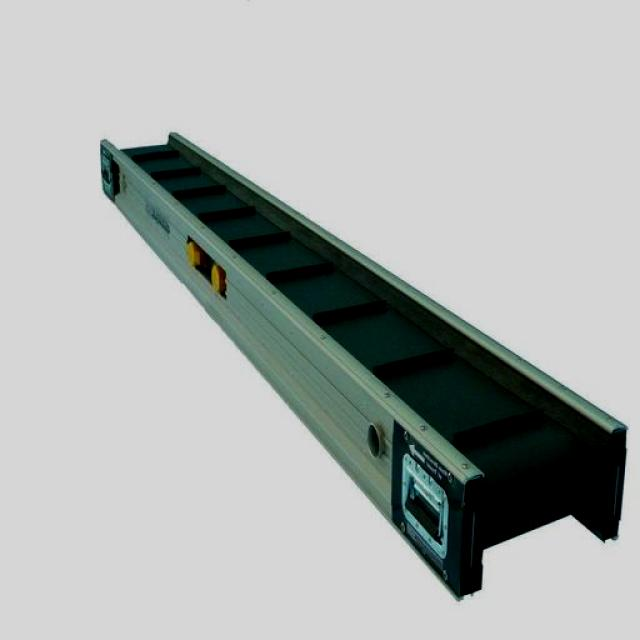conveyor: (112, 139, 615, 555)
